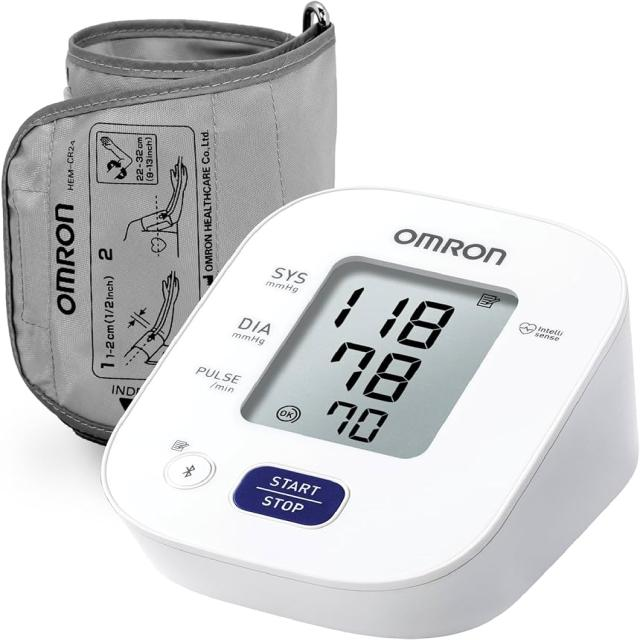dia: (314, 334, 427, 412)
pul: (306, 390, 397, 452)
ssd: (237, 204, 516, 508)
sys: (323, 273, 467, 363)
